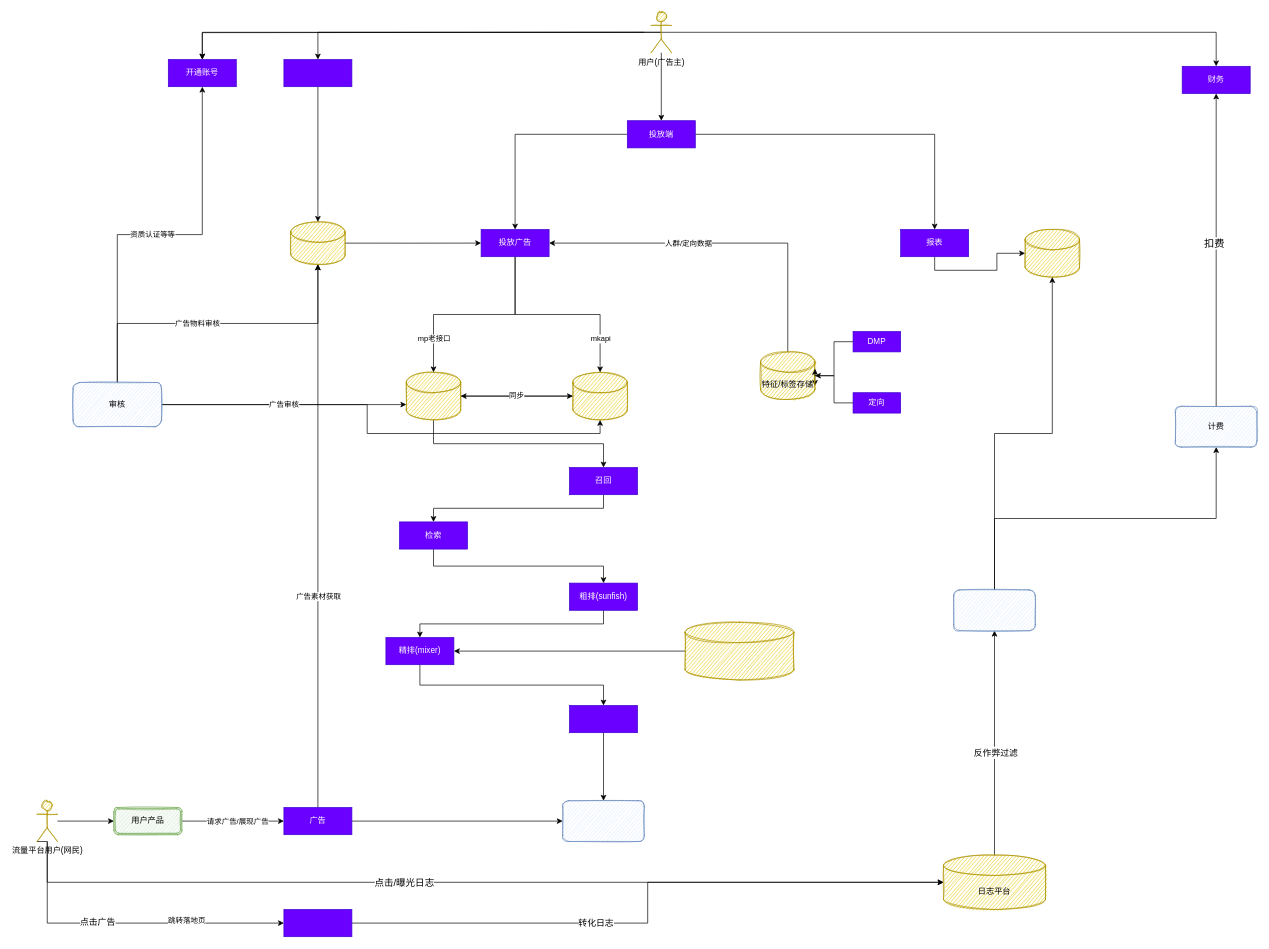
The diagram is 1269 pixels wide and 949 high, and some of its shapes have lost their labels. Here are the shapes that lost their labels. From the top down, the box of each, then its label:
(283, 59, 352, 87): 创意/建站/素材
(290, 221, 345, 264): 素材库
(1024, 229, 1080, 277): 报表数据
(406, 372, 461, 420): 广告库(mp)
(572, 372, 627, 420): 广告库(adq)
(953, 589, 1035, 631): 反作弊
(684, 622, 794, 680): 用户画像/设备画像/LBS等
(569, 705, 638, 733): 播放(display)
(562, 800, 644, 842): 引擎/策略
(283, 909, 352, 937): 广告主网站
